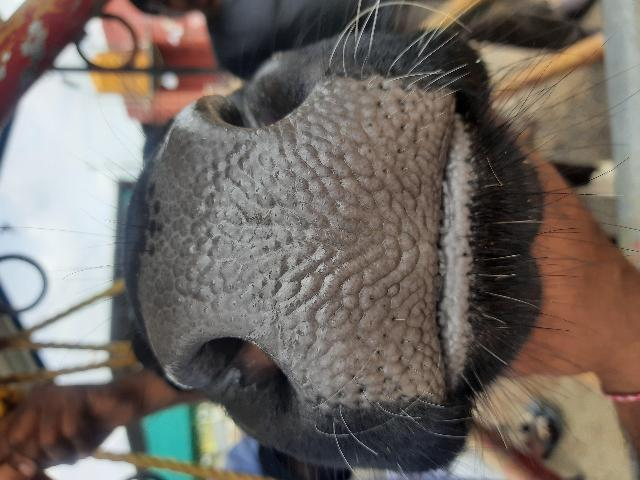Muzzle: (154, 140, 430, 342)
